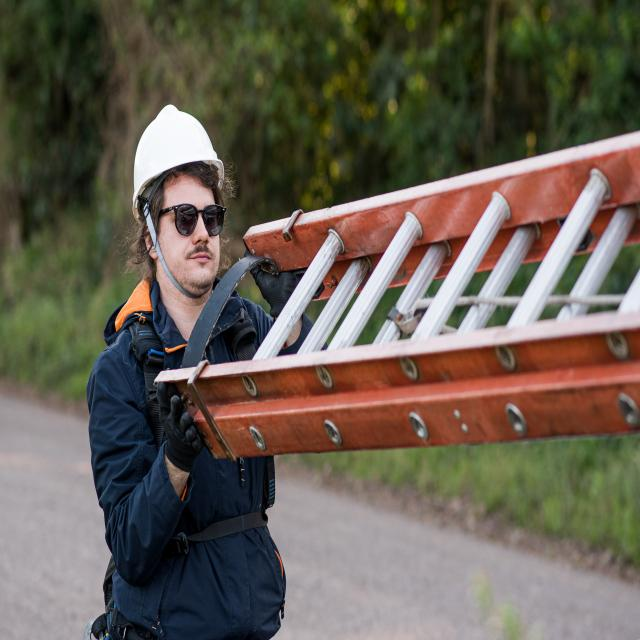capacete: (130, 102, 226, 231)
luva: (155, 377, 203, 475)
